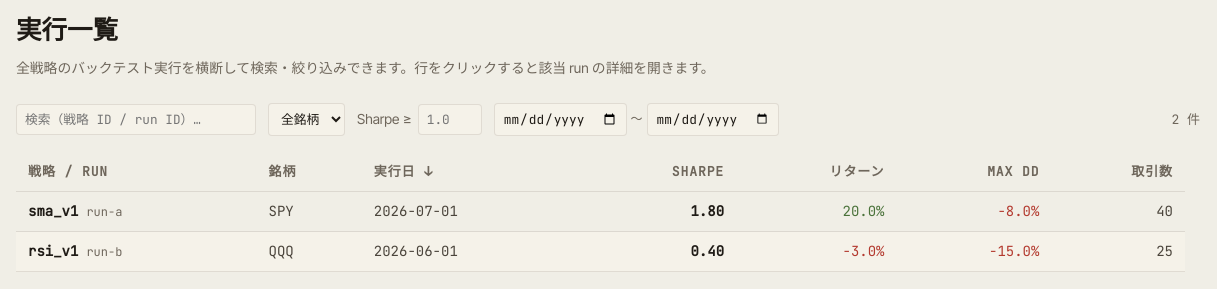
RunsPage (issue #374) › 銘柄で絞り込める
Check: the link "sma_v1" is shown, box x1=28 y1=202 x2=78 y2=220
Select "QQQ" in the dropdown named "銘柄": (306, 120) x1=268 y1=103 x2=345 y2=136
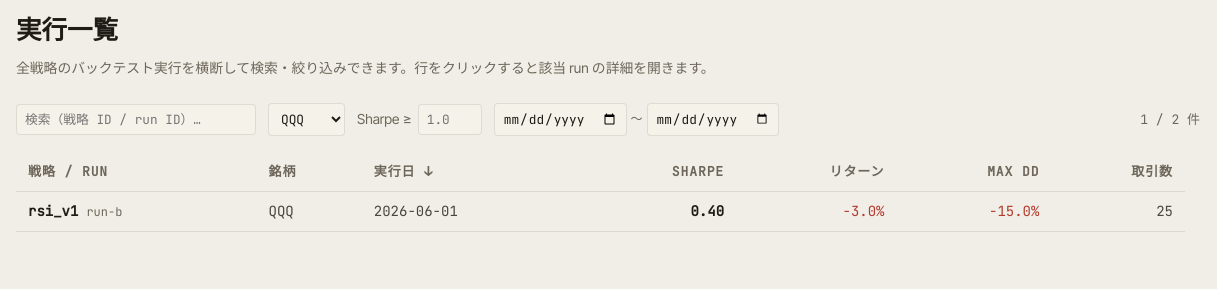
Check: the link "rsi_v1" is shown, box x1=28 y1=202 x2=78 y2=220
Check: the link "sma_v1" is gone
